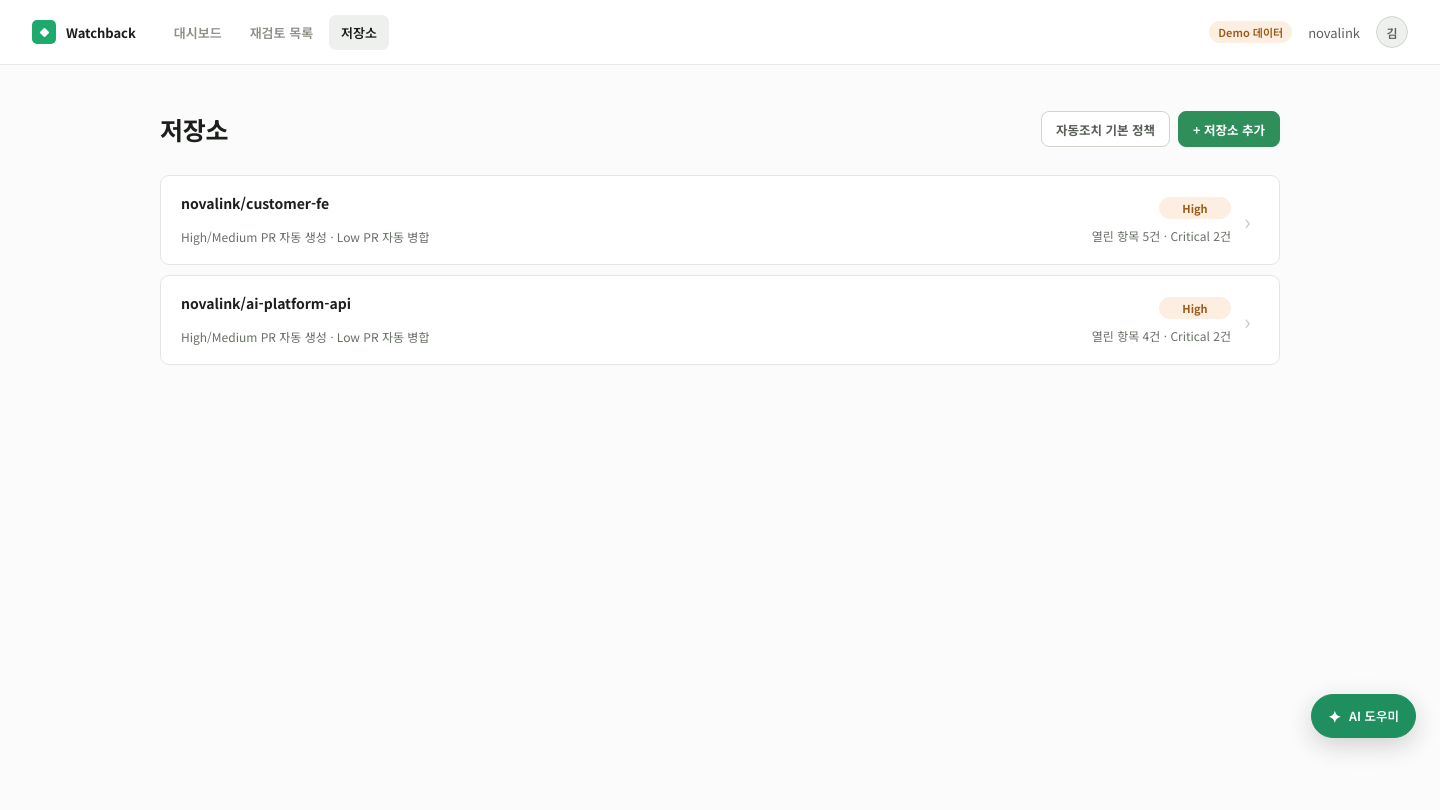
Test: Watchback review UI › shows the organization policy matrix from the repository page
Click the button "자동조치 기본 정책" at (1106, 129), box [1041, 111, 1170, 147]
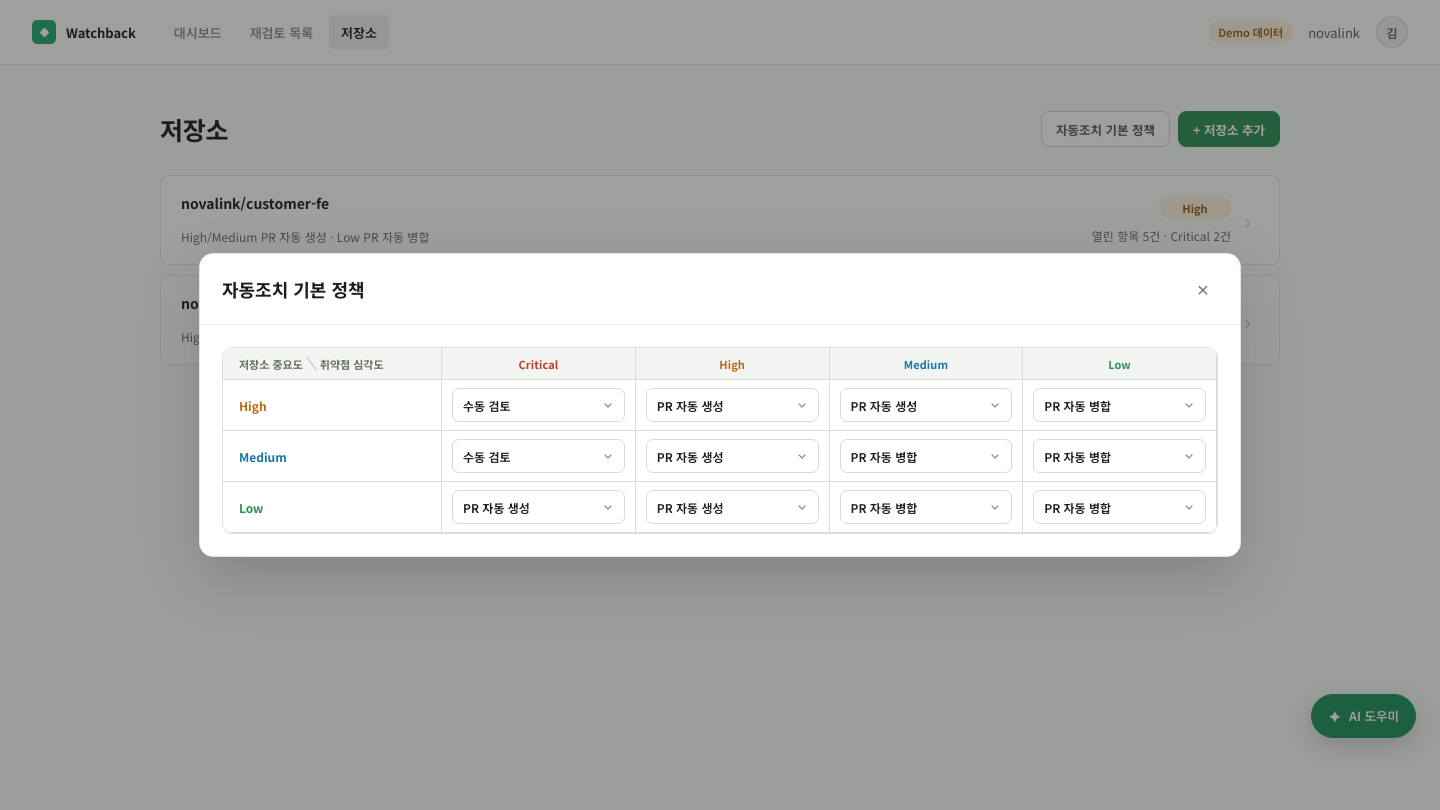
Check: the number of dropdowns is 12
Select "PR 자동 병합" in the dropdown named "High 저장소 Critical 취약점 정책" at (538, 405), box [452, 388, 625, 422]
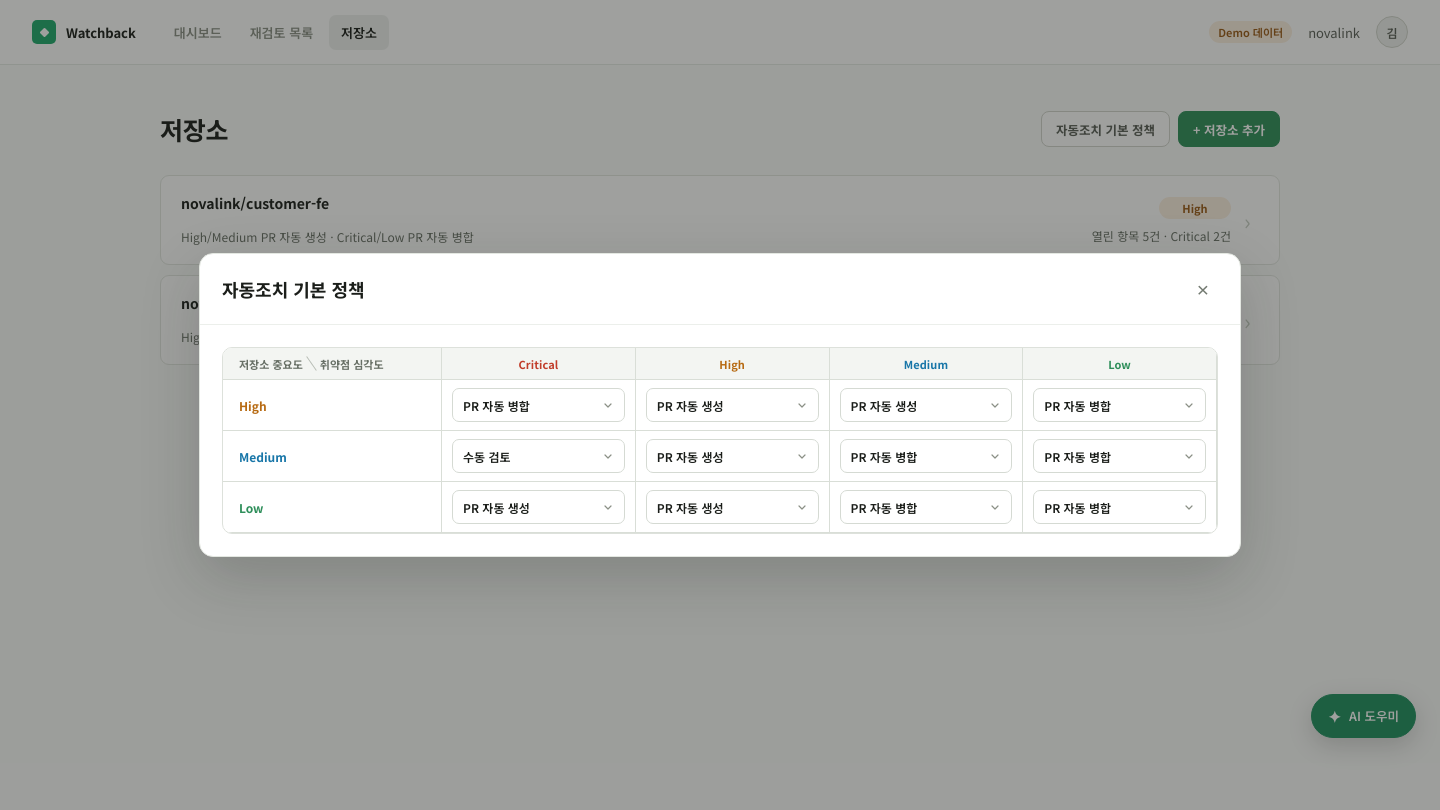
Click the button named "자동조치 기본 정책 닫기" at (1203, 289), box [1188, 274, 1218, 304]
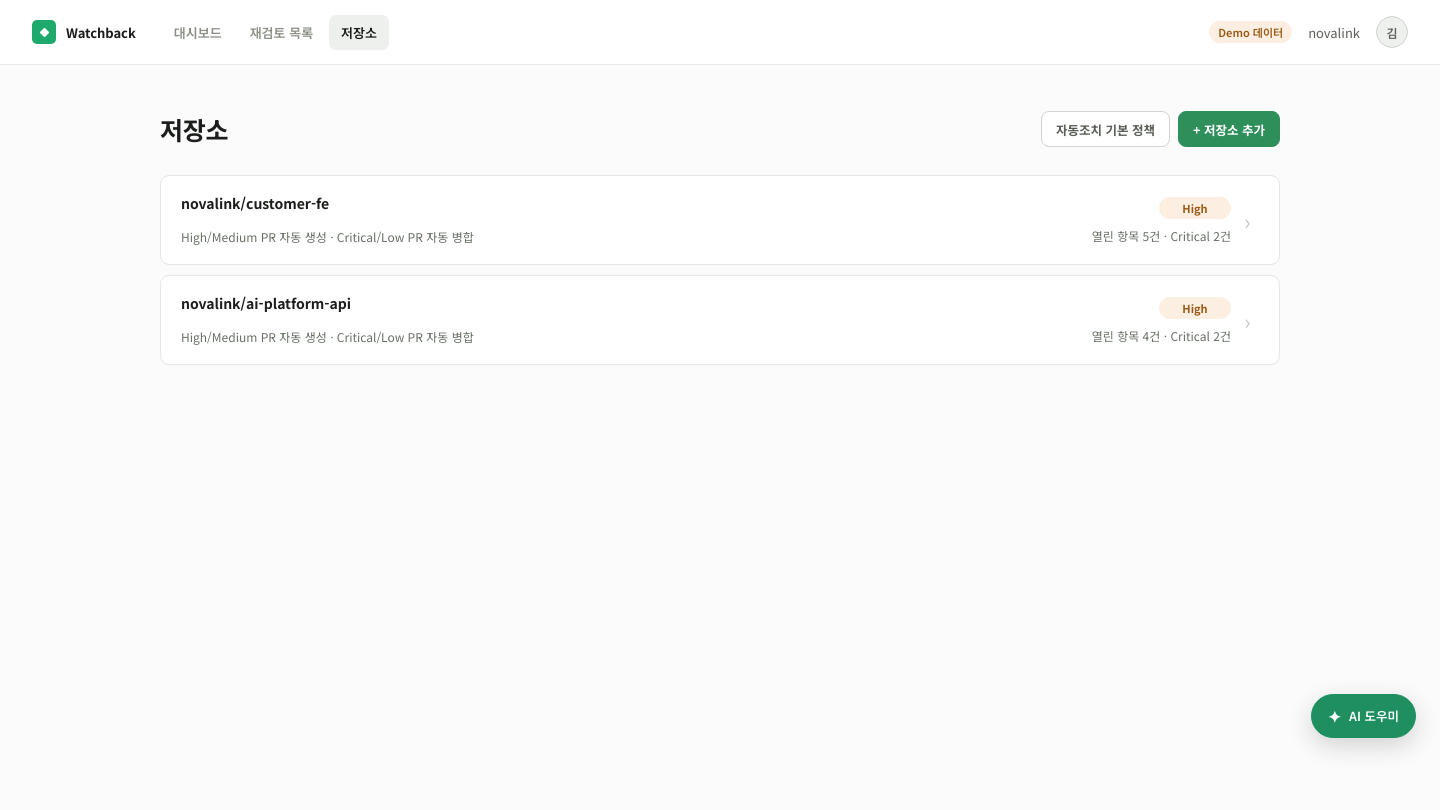
Check: the text "High/Medium PR 자동 생성 · Critical/Low PR 자동 병합" in the row of "열린 항목 5건 · Critical 2건" is shown, box [181, 228, 474, 245]
Click the button "자동조치 기본 정책" at (1106, 129), box [1041, 111, 1170, 147]
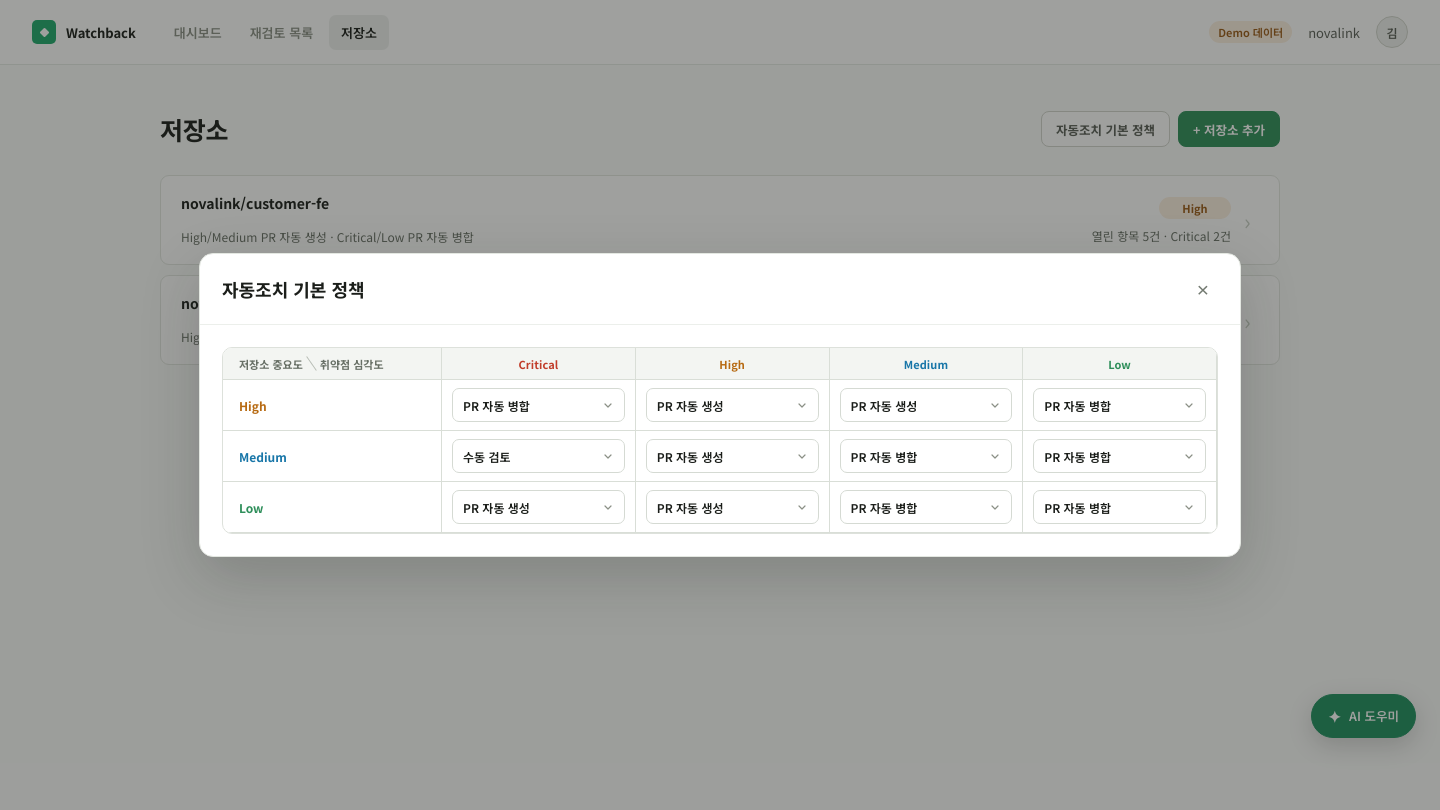
Check: the dropdown named "High 저장소 Critical 취약점 정책" shows "PR 자동 병합", box [452, 388, 625, 422]
